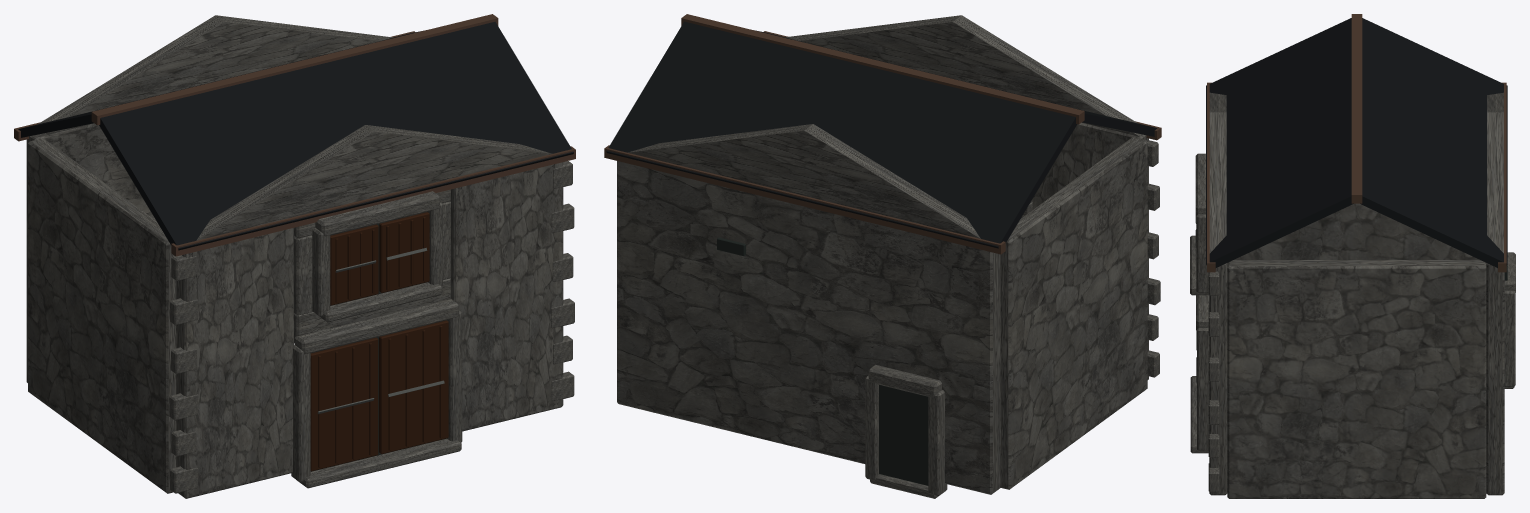
The model's file is barn_front_granite_roof_edge_visual_preflight.glb.
3 renders of one model, left to right at view 1: azimuth 30°, elevation 25°; view 2: azimuth 150°, elevation 25°; view 3: azimuth 270°, elevation 25°, orthographic. The views are drawn at different scales.
Visible parts, largest first — view 1: V0344_House02_Derived_Barrosan_Barn_Repaired_Visual; view 2: V0344_House02_Derived_Barrosan_Barn_Repaired_Visual; view 3: V0344_House02_Derived_Barrosan_Barn_Repaired_Visual.
Boxes of the visible parts, bbox=[...] form: V0344_House02_Derived_Barrosan_Barn_Repaired_Visual: bbox=[14, 14, 575, 498]; V0344_House02_Derived_Barrosan_Barn_Repaired_Visual: bbox=[604, 14, 1161, 498]; V0344_House02_Derived_Barrosan_Barn_Repaired_Visual: bbox=[1190, 14, 1515, 498].
Size of the model in its own units: 8.04 by 6.57 by 6.11.
6 materials, 3 textured.
